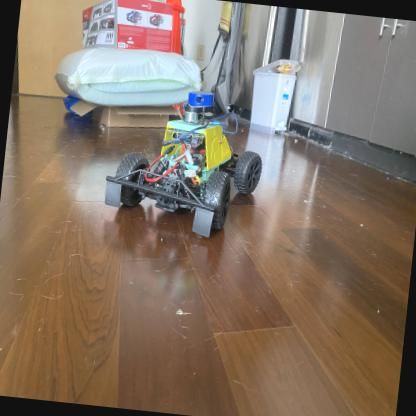mushr_car: (101, 83, 269, 241)
